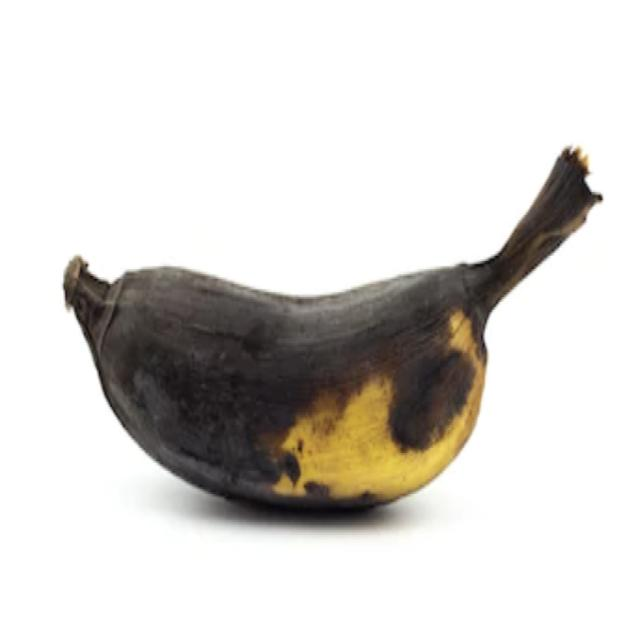rotten-banana: (61, 141, 604, 514)
